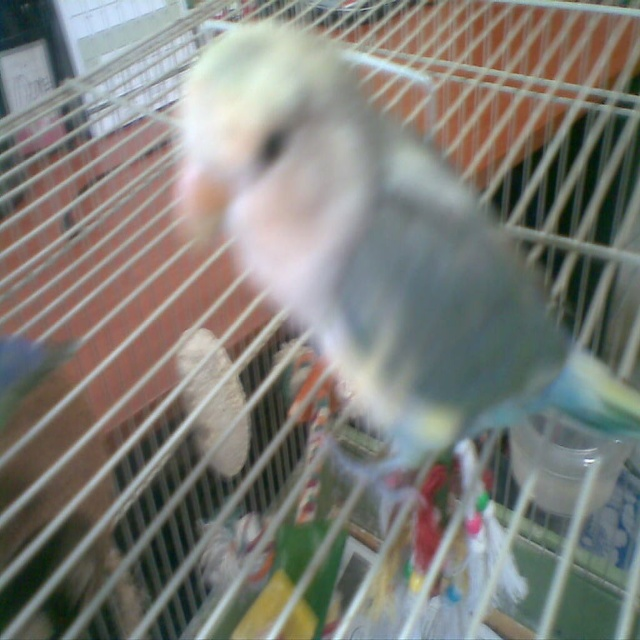Parrot: (172, 19, 639, 521)
